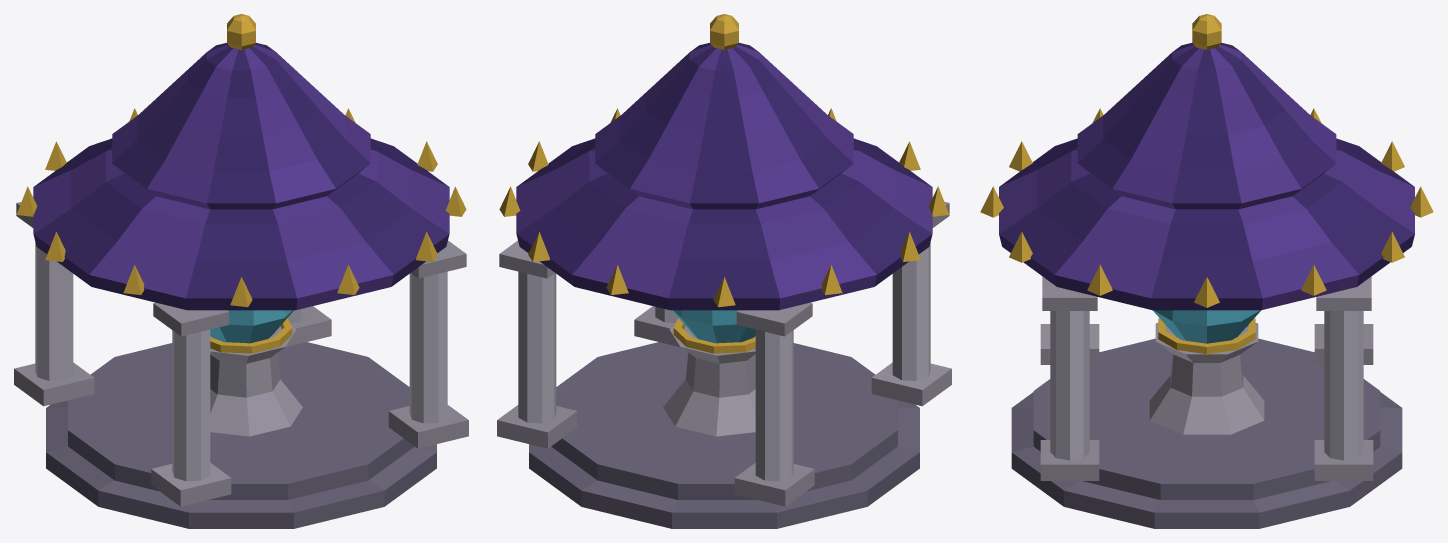
File: Decor_WizardTower_Pavilion.fbx
3 renders of one model, left to right at view 1: azimuth 30°, elevation 25°; view 2: azimuth 150°, elevation 25°; view 3: azimuth 270°, elevation 25°, orthographic.
Visible parts, largest first — view 1: Pavilion_Body; view 2: Pavilion_Body; view 3: Pavilion_Body.
Part boxes in pixels (x1,y1,x2,y2): Pavilion_Body: (14, 14, 468, 528); Pavilion_Body: (497, 14, 951, 528); Pavilion_Body: (980, 14, 1433, 528).
Size of the model in its own units: 12.4 by 13 by 12.4.
